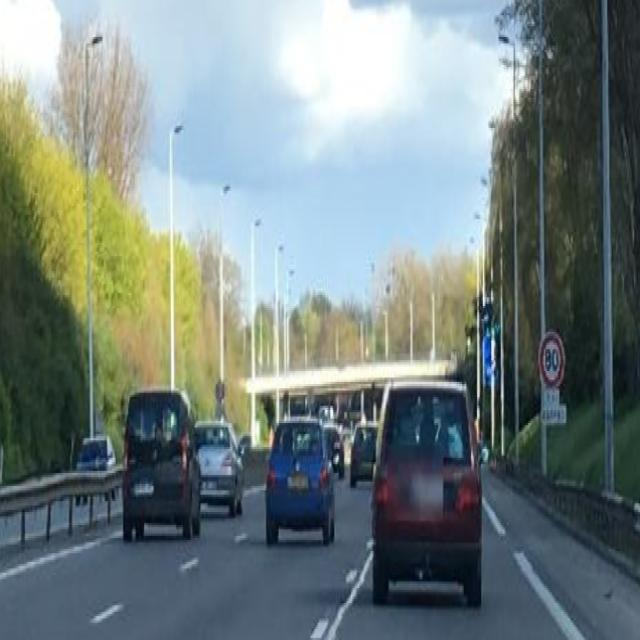speed_80: (540, 331, 563, 386)
